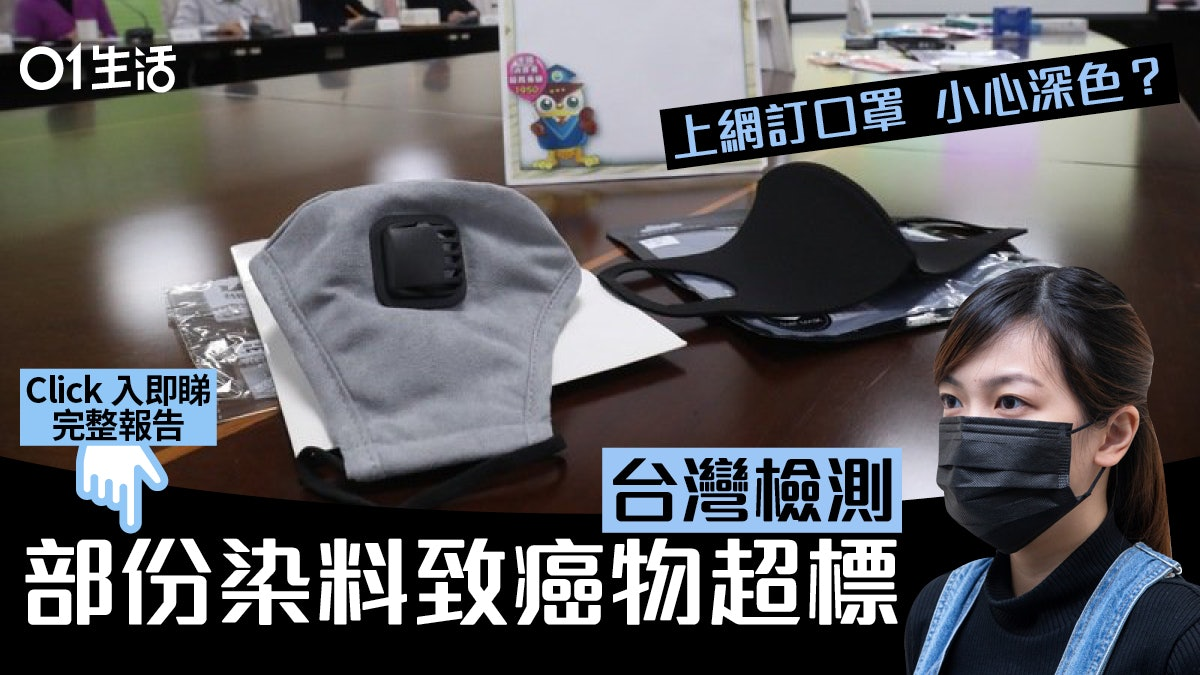Mask: (931, 316, 1122, 563)
